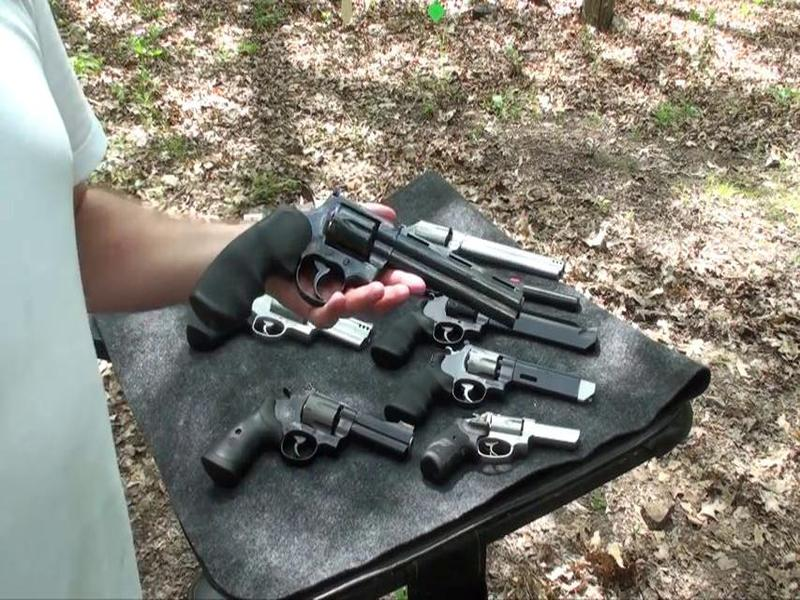Revolver: (236, 170, 529, 336)
